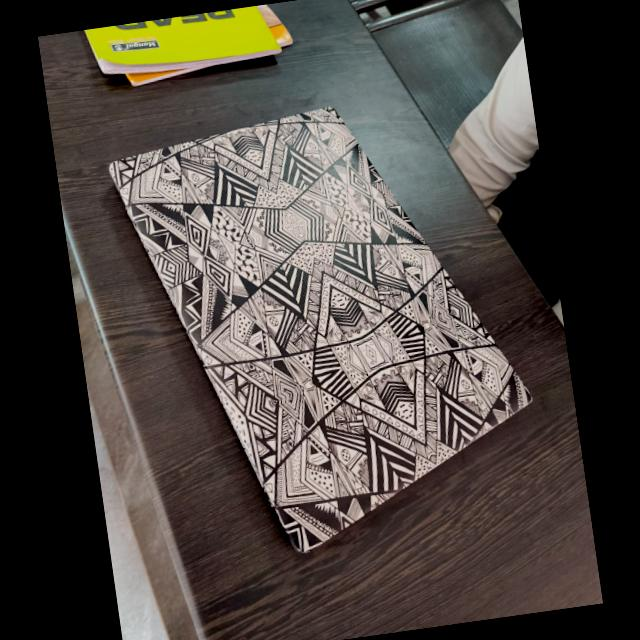laptop: (81, 69, 560, 581)
